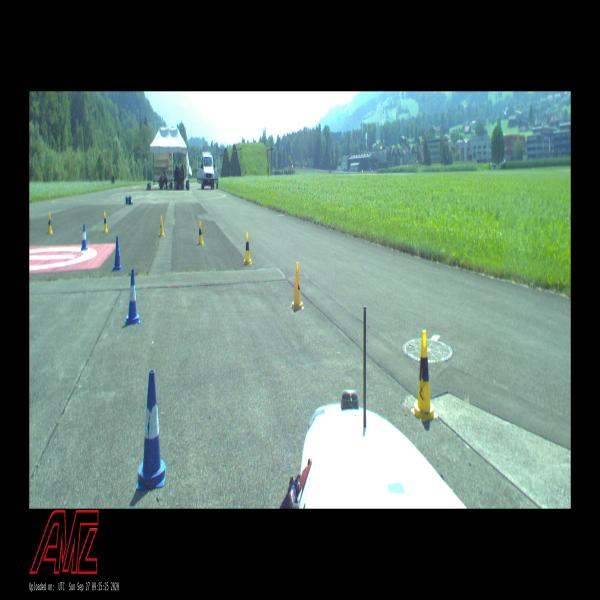blue_cone: (136, 369, 166, 490), (125, 269, 141, 325), (112, 236, 122, 271), (81, 224, 88, 250)
yellow_cone: (411, 331, 438, 420), (291, 262, 304, 310), (244, 232, 251, 264), (197, 220, 204, 246), (102, 212, 109, 233), (159, 215, 165, 237), (47, 212, 53, 234)
